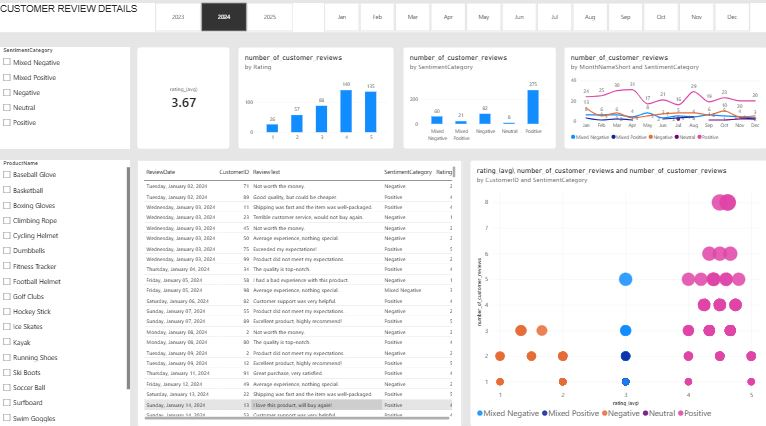

This screenshot's page, from the dashboard's own definition file:
{"tool":"powerbi","page":{"name":"Customer Review Details","canvas":[1920,1080],"ordinal":3},"visuals":[{"type":"textbox","box":[0,10,1920,72.5],"z":0},{"type":"slicer","fields":{"Values":["products.ProductName"]},"box":[0,402.5,325,667.5],"z":1000},{"type":"slicer","fields":{"Values":["Calendar.Year"]},"box":[367.5,7.5,382.5,75],"z":2000},{"type":"slicer","fields":{"Values":["Calendar.MonthNameShort"]},"box":[790,7.5,1102.5,75],"z":3000},{"type":"cardVisual","fields":{"Data":["Calculations.rating_(avg)"]},"box":[342.5,120,232.5,255],"z":4000},{"type":"clusteredColumnChart","fields":{"Category":["customer_reviews_with_sentiment.Rating"],"Y":["Calculations.number_of_customer_reviews"]},"box":[595,120,390,255],"z":5000},{"type":"clusteredColumnChart","fields":{"Category":["customer_reviews_with_sentiment.SentimentCategory"],"Y":["Calculations.number_of_customer_reviews"]},"box":[1007.5,120,382.5,255],"z":6000},{"type":"lineChart","fields":{"Category":["Calendar.MonthNameShort"],"Series":["customer_reviews_with_sentiment.SentimentCategory"],"Y":["Calculations.number_of_customer_reviews"]},"box":[1410,120,510,255],"z":7000},{"type":"tableEx","fields":{"Values":["customer_reviews_with_sentiment.ReviewDate","customer_reviews_with_sentiment.CustomerID","customer_reviews_with_sentiment.ReviewText","customer_reviews_with_sentiment.SentimentCategory","customer_reviews_with_sentiment.Rating"]},"box":[341.9,402.3,814,667.4],"z":8000},{"type":"scatterChart","fields":{"Category":["customers.CustomerID"],"Series":["customer_reviews_with_sentiment.SentimentCategory"],"Size":["Calculations.number_of_customer_reviews"],"X":["Calculations.rating_(avg)"],"Y":["Calculations.number_of_customer_reviews"]},"box":[1174.4,402.3,744.2,667.4],"z":9000},{"type":"slicer","fields":{"Values":["customer_reviews_with_sentiment.SentimentCategory"]},"box":[0,120,325,255],"z":9001}]}

Visuals, with their boxes in screenshot pixels (x1, y1, x2, y2), scaled from the page's 1920x1080 canvas onto the 766x426 screenshot:
textbox: [x1=0, y1=4, x2=765, y2=33]
slicer - products.ProductName: [x1=0, y1=159, x2=130, y2=422]
slicer - Calendar.Year: [x1=147, y1=3, x2=299, y2=33]
slicer - Calendar.MonthNameShort: [x1=315, y1=3, x2=755, y2=33]
cardVisual - Calculations.rating_(avg): [x1=137, y1=47, x2=229, y2=148]
clusteredColumnChart - customer_reviews_with_sentiment.Rating x Calculations.number_of_customer_reviews: [x1=237, y1=47, x2=393, y2=148]
clusteredColumnChart - customer_reviews_with_sentiment.SentimentCategory x Calculations.number_of_customer_reviews: [x1=402, y1=47, x2=555, y2=148]
lineChart - Calendar.MonthNameShort x customer_reviews_with_sentiment.SentimentCategory: [x1=563, y1=47, x2=765, y2=148]
tableEx - customer_reviews_with_sentiment.ReviewDate x customer_reviews_with_sentiment.CustomerID: [x1=136, y1=159, x2=461, y2=422]
scatterChart - customers.CustomerID x customer_reviews_with_sentiment.SentimentCategory: [x1=469, y1=159, x2=765, y2=422]
slicer - customer_reviews_with_sentiment.SentimentCategory: [x1=0, y1=47, x2=130, y2=148]
